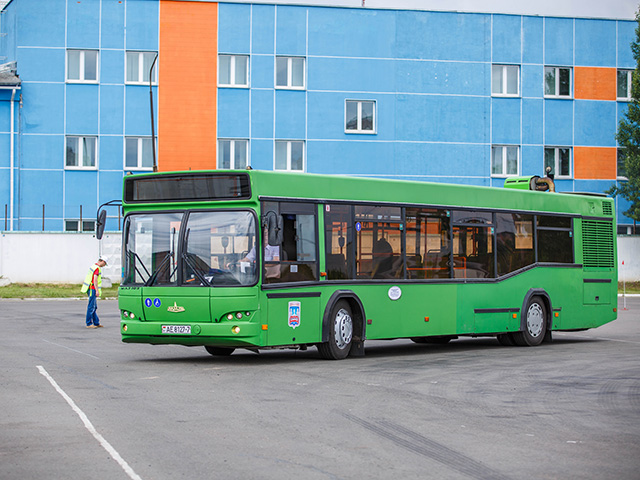bus: (118, 166, 619, 360)
